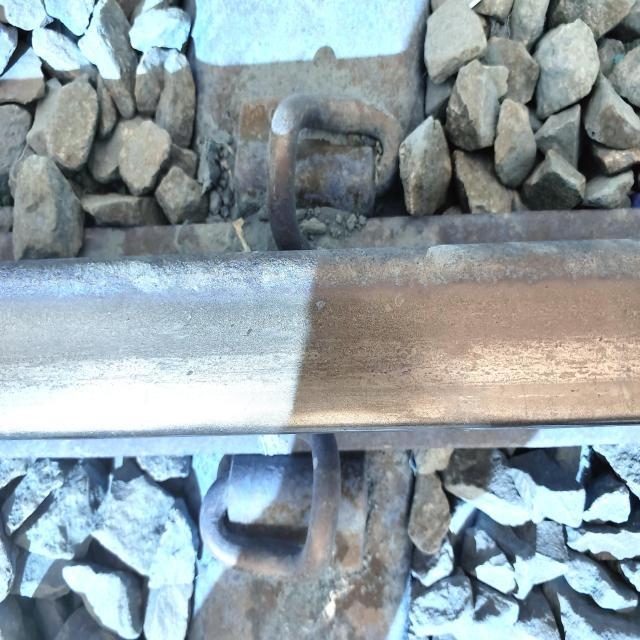Good Fasteners: (235, 94, 402, 250), (200, 434, 368, 579)
